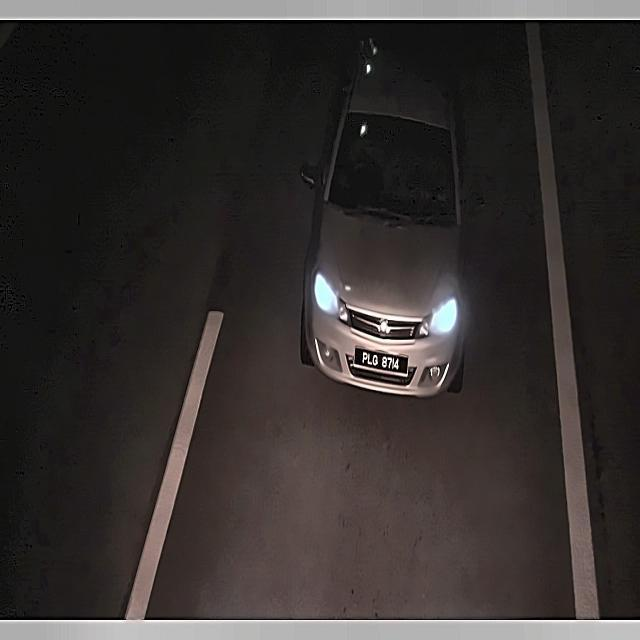car: (352, 344, 409, 381)
